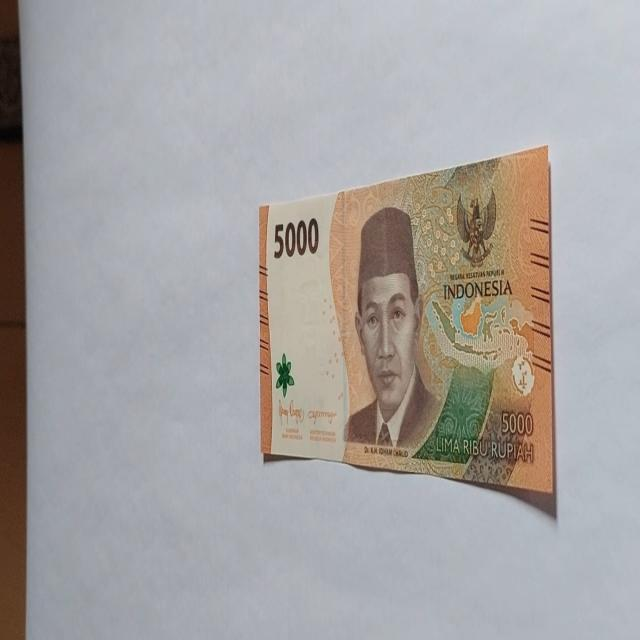lima ribu rupiah: (257, 144, 555, 513), (343, 205, 443, 452)
